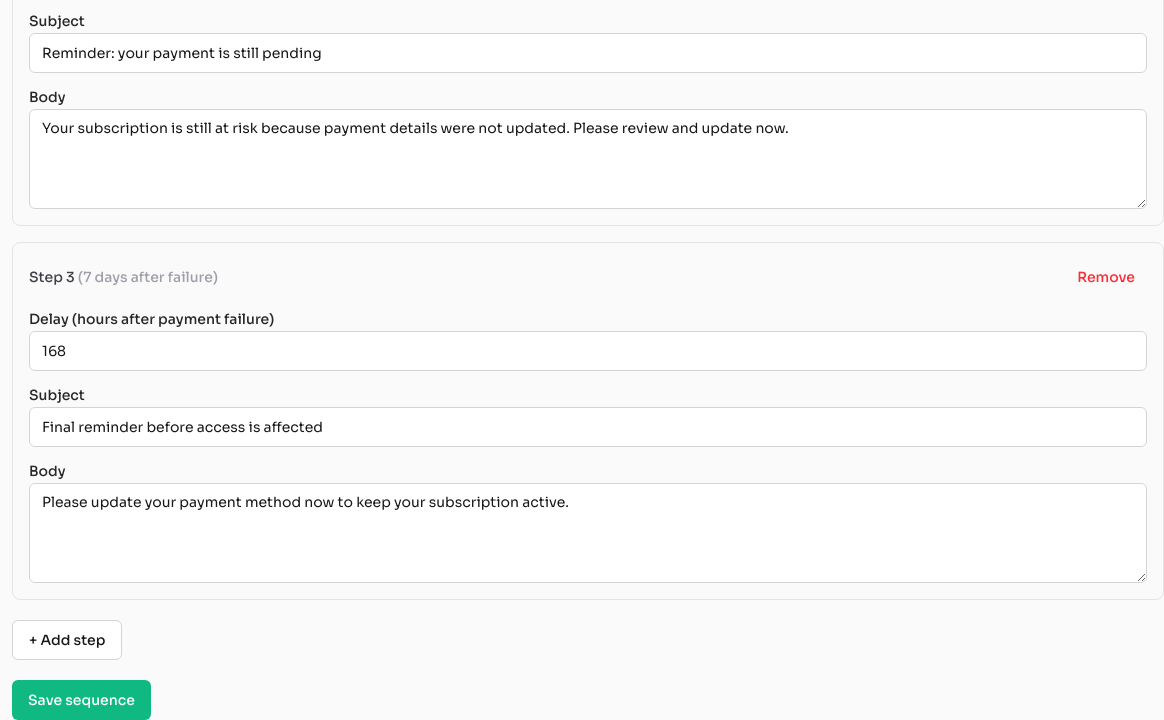
Test: SequenceForm › shows error message on API failure
(page scrolled)
Click the button "Save sequence" at (81, 700), box top-left (12, 680), bottom-right (151, 719)
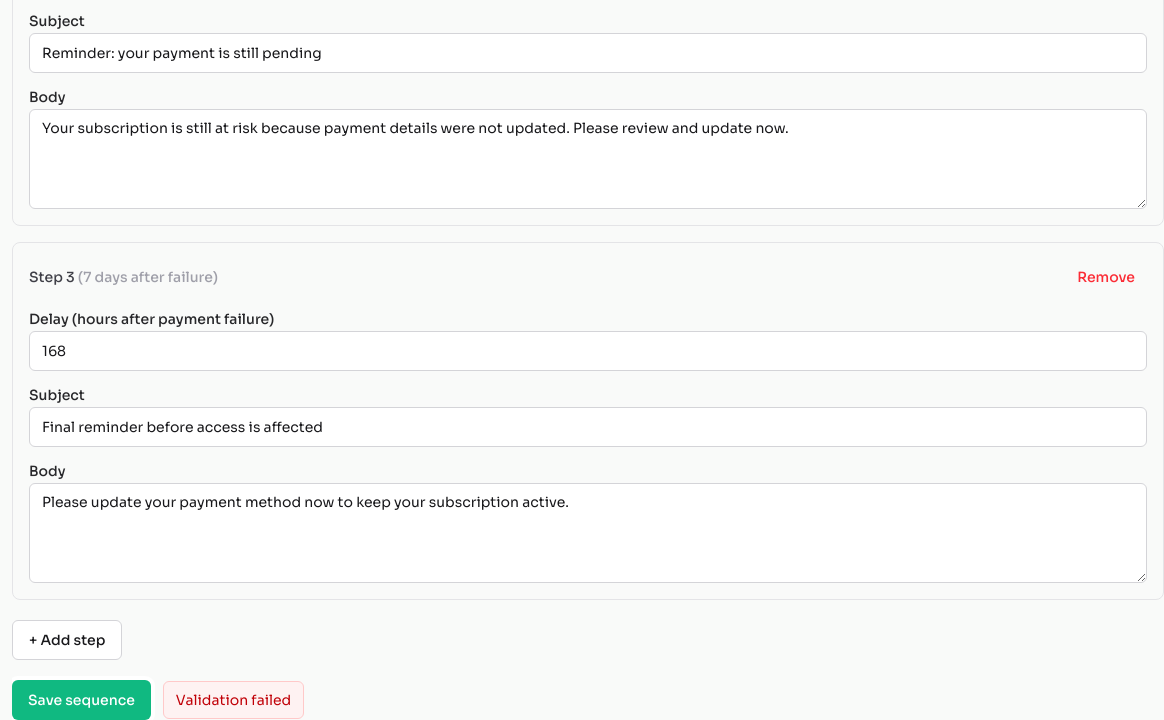
Expected: the text "Validation failed" is shown, top-left (163, 681), bottom-right (304, 719)
